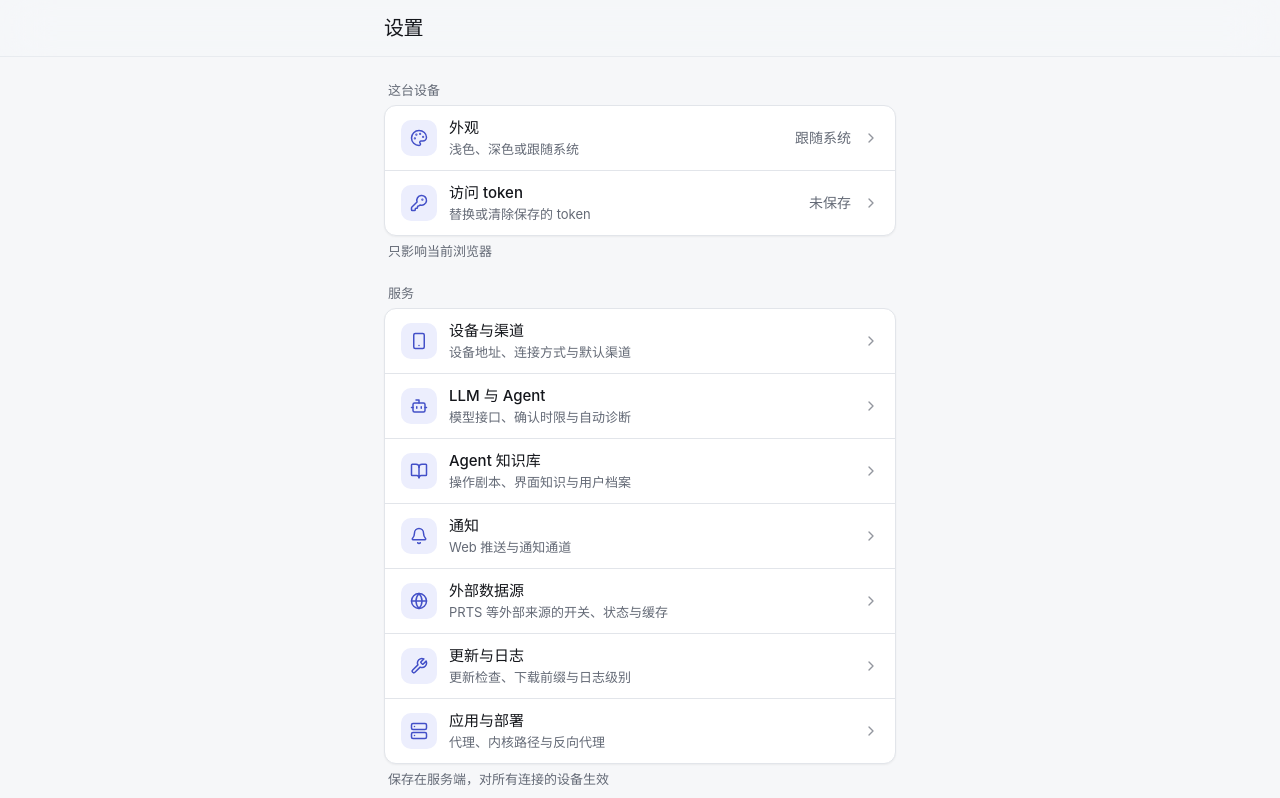
it: settings index › lists the sections as one row each and opens a section
This screenshot has width=1280, height=798.
Expected: the heading "设置" is shown, [384,16,423,40]
Click the link "设备与渠道 设备地址、连接方式与默认渠道": (419, 341) [385,309,895,374]
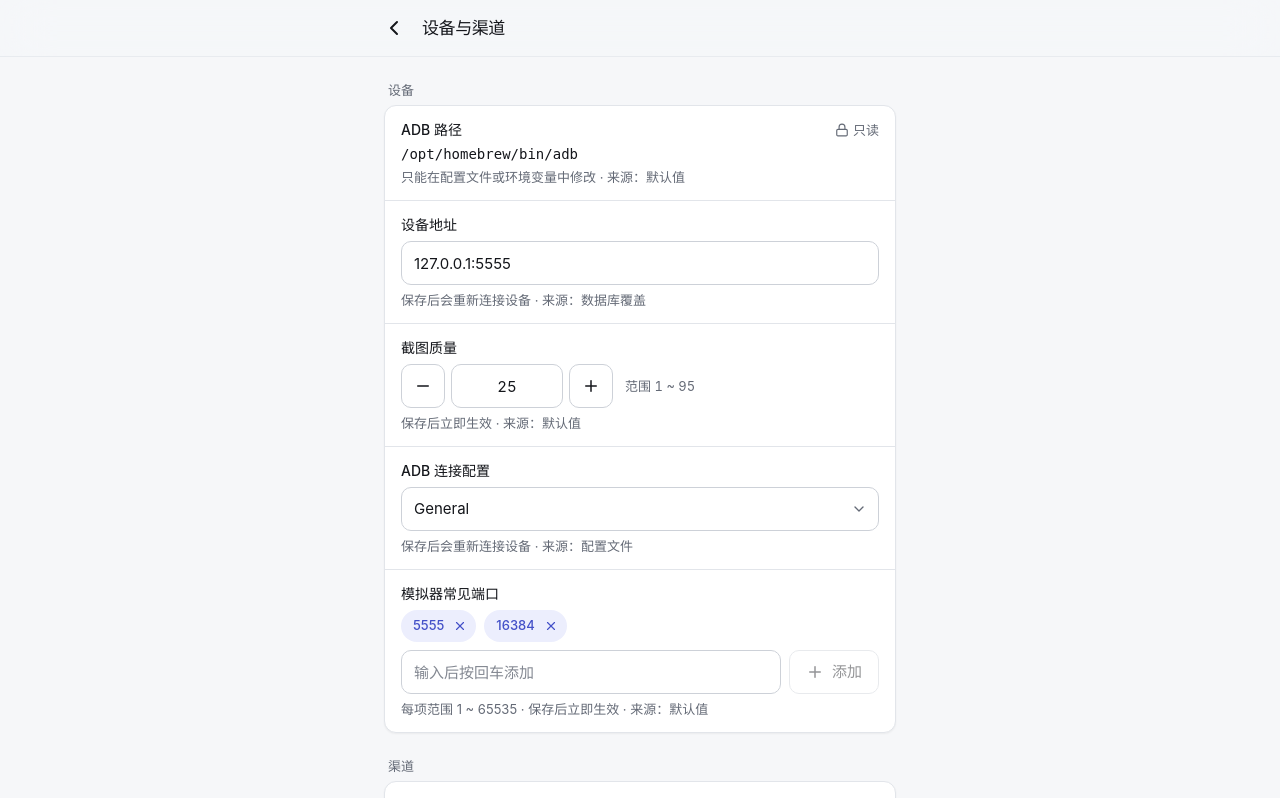
Now the heading "设备与渠道" is shown, box [422,18,505,38]
Now the field labelled "设备地址" is shown, box [401,241,879,285]
